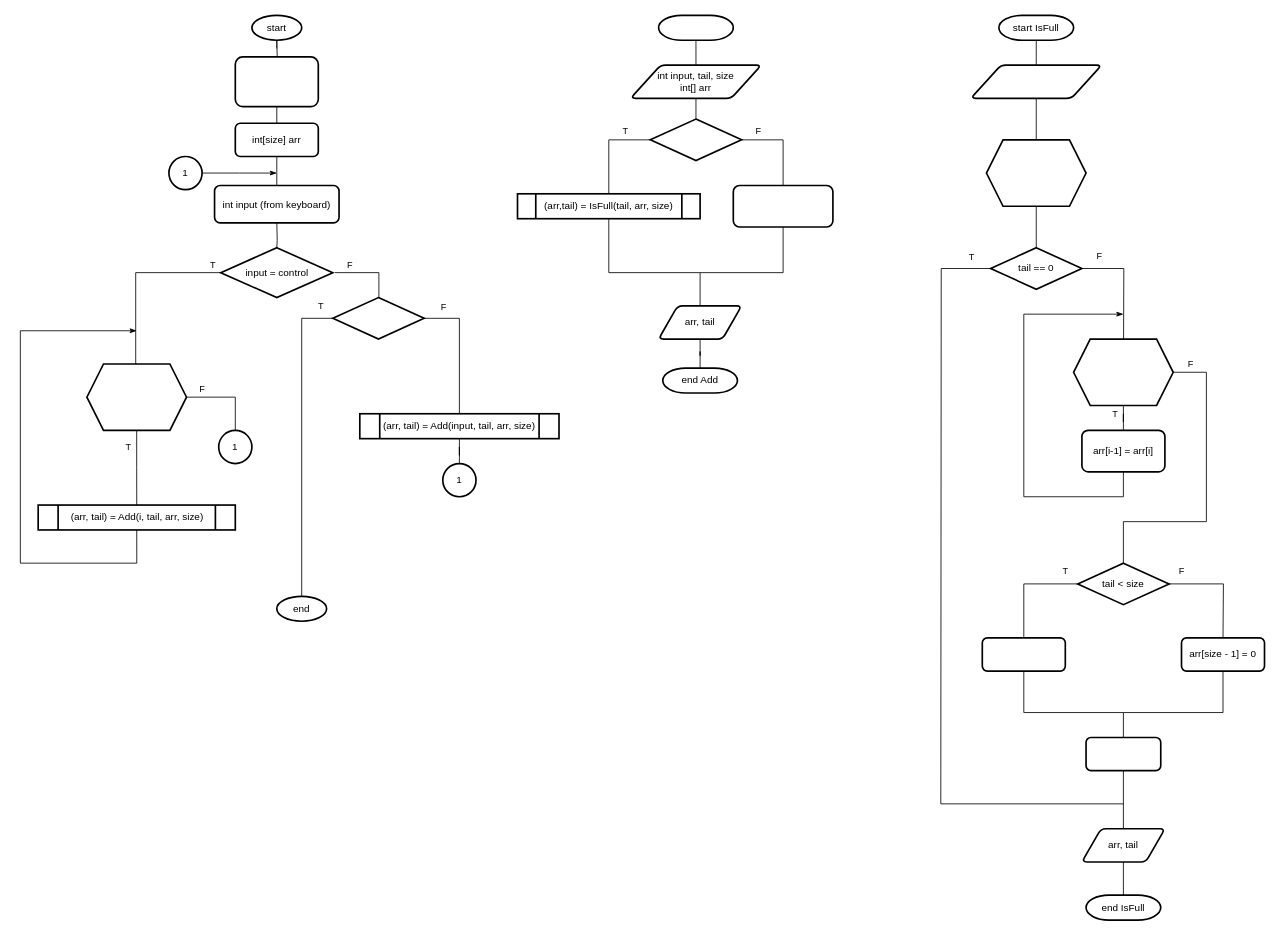
The diagram is 1280 pixels wide and 935 high, and some of its shapes have lost their labels. Each missing label, with the centre of its shape:
arr[tail] = 0: pixel 1023 654
arr[tail] = input tail = tail + 1: pixel 782 205
input == 0: pixel 378 317
int i = 0 i < size i = i+1: pixel 1035 173
int i = 0 i < size+1 i = i+1: pixel 136 397
int j = 1 j < M j = j+1: pixel 1123 372
int tail, size int[] arr: pixel 1036 81
size = 10 tail = 0: pixel 276 81
start Add: pixel 695 27
tail = tail - 1: pixel 1123 753
tail == size: pixel 695 139
